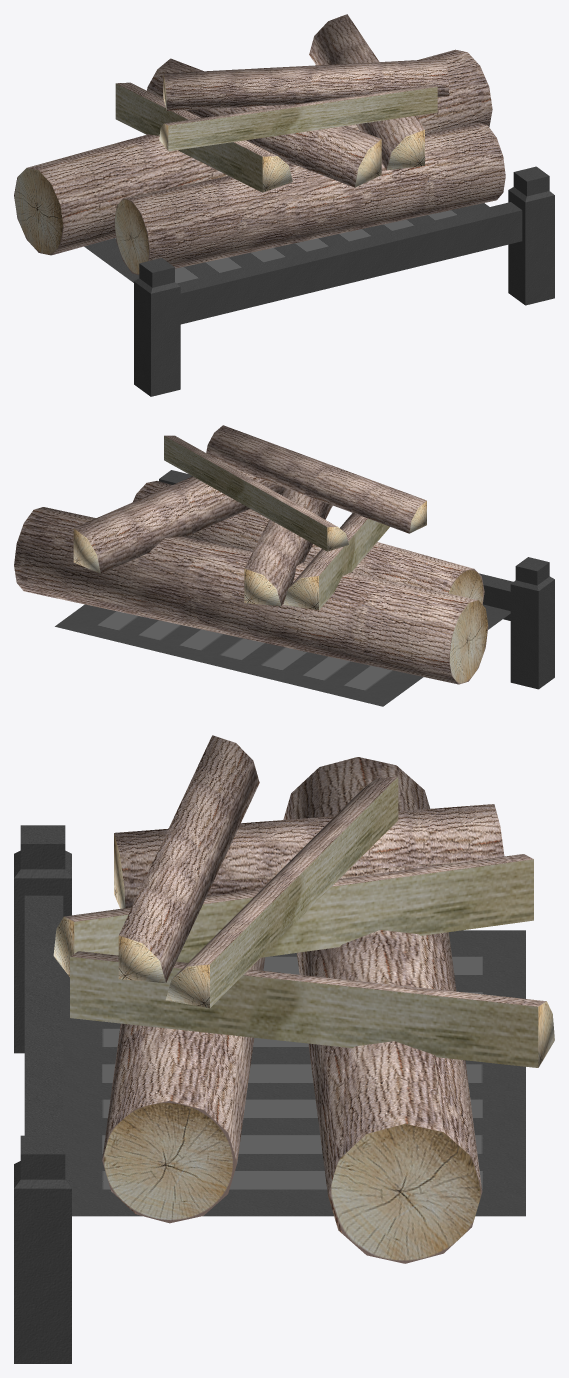
Rendered from CK Fire.dae.
3 renders of one model, top to bottom at view 1: azimuth 30°, elevation 25°; view 2: azimuth 150°, elevation 25°; view 3: azimuth 270°, elevation 25°, orthographic. The views are drawn at different scales.
Visible parts, largest first — view 1: Plane; view 2: Plane; view 3: Plane.
Boxes of the visible parts, box(x1,y1,x2,y2) form: Plane: box(14, 14, 554, 396); Plane: box(14, 425, 554, 706); Plane: box(14, 735, 554, 1363).
Bounding box in the file's own units: 0.9074 × 0.5599 × 0.4073.
Materials: 2 (2 with a texture image).
